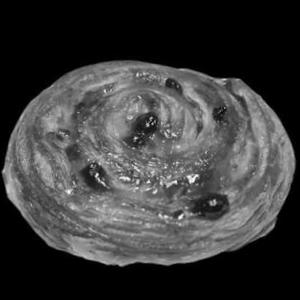bread: (0, 36, 298, 275)
